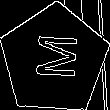M_W: (29, 36, 79, 84)
